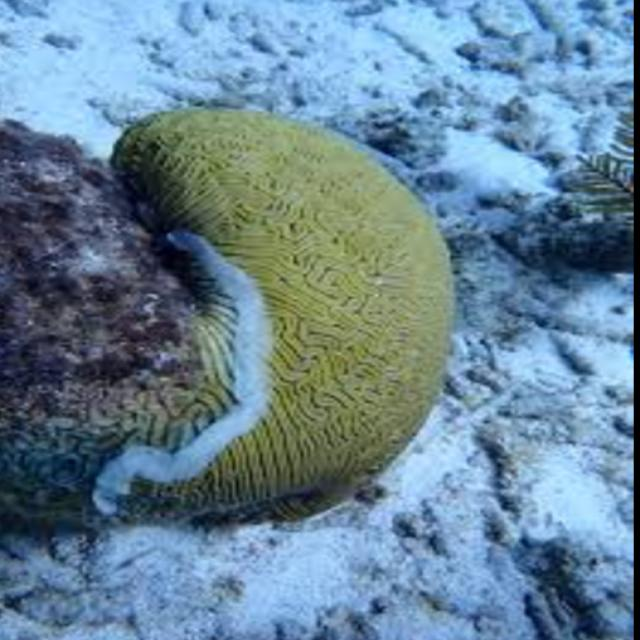Coral: (0, 108, 453, 525)
